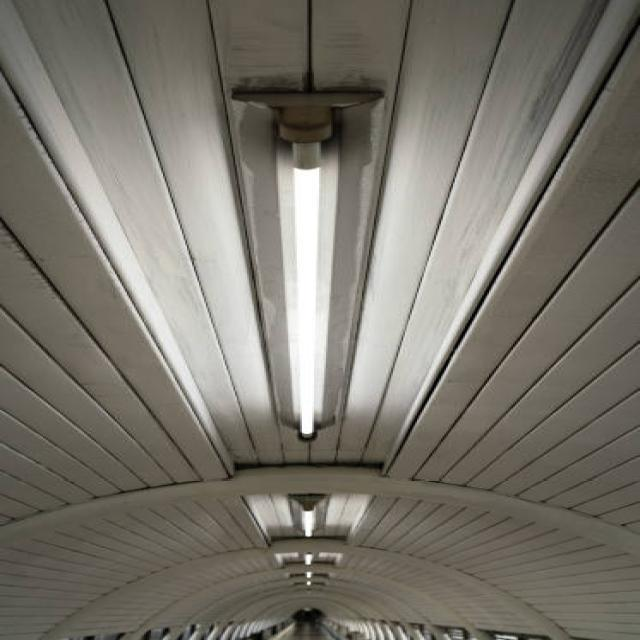tubelight_on: (279, 121, 337, 436), (293, 494, 323, 540), (303, 553, 314, 571), (302, 572, 319, 578), (306, 578, 316, 588)
